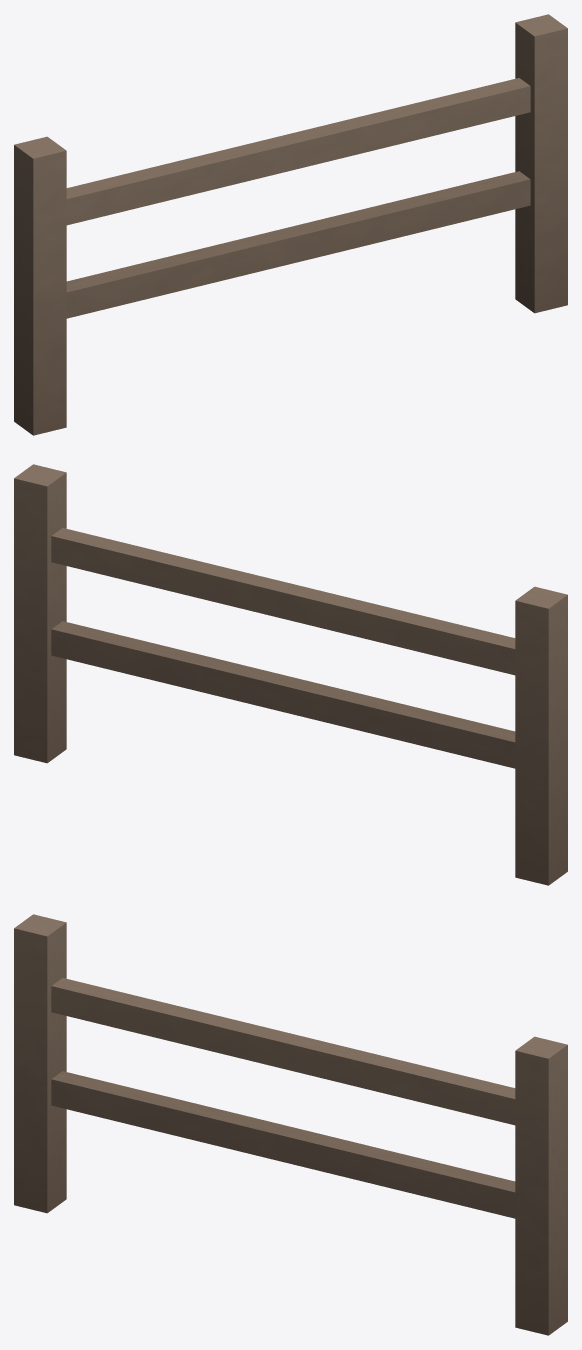
File: fence.glb
3 views of the same model, one above another, from view 1: azimuth 30°, elevation 25°; view 2: azimuth 150°, elevation 25°; view 3: azimuth 330°, elevation 25° (orthographic).
Parts seen in each view (by area): view 1: fence; view 2: fence; view 3: fence.
Boxes of the visible parts, bbox=[...] form: fence: bbox=[14, 14, 567, 435]; fence: bbox=[14, 464, 567, 885]; fence: bbox=[14, 914, 567, 1335].
Size of the model in its own units: 1.92 by 0.95 by 0.12.
Materials: 1 (1 with a texture image).
